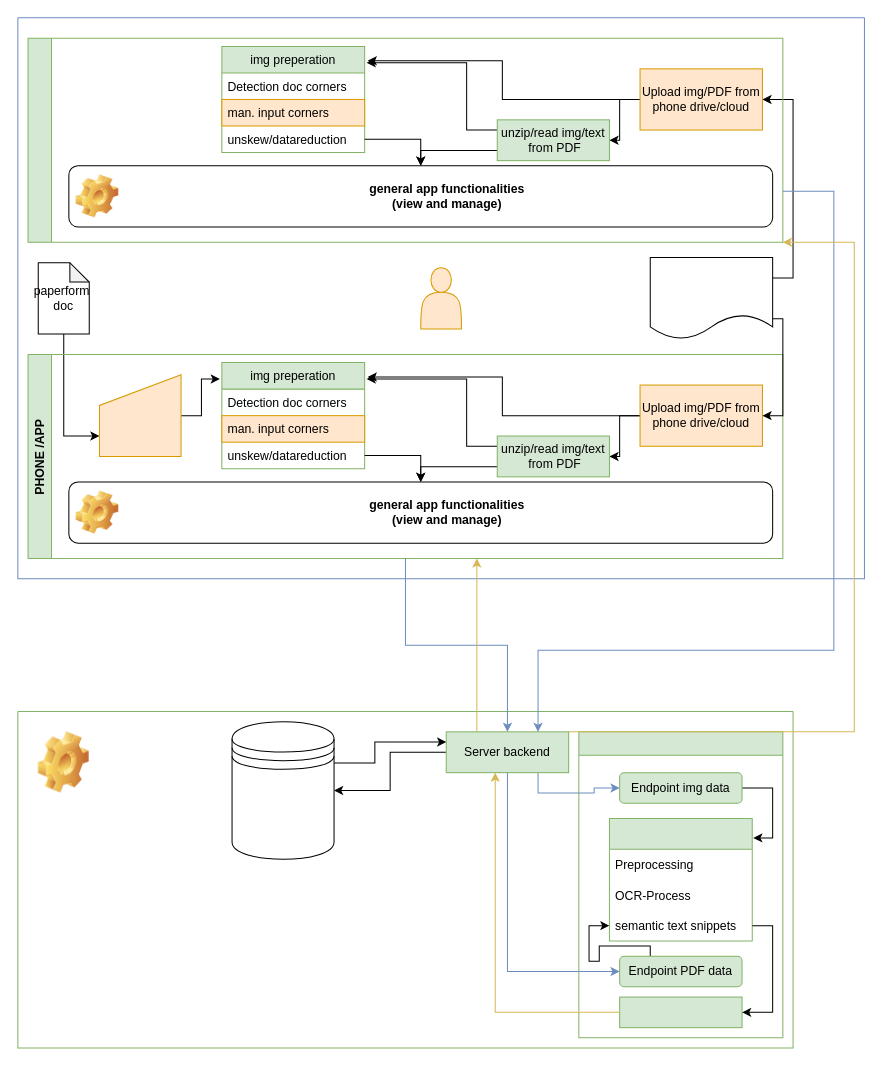
Image size: 882x1066. Some labels were removed from this diagram. The shapes that lost their labels are listed below. From the top down, each one's box as (x1, y1, x2, y2) in pixels, then its label:
(27, 37, 783, 242): PC
(649, 257, 773, 339): digital document
(98, 374, 181, 456): Man. Input via camera (img)
(231, 721, 334, 859): Database
(608, 818, 752, 941): OCR-Engine
(578, 731, 783, 1038): OCR-Service (Docker)
(619, 996, 742, 1028): NLP Process (unknown)
